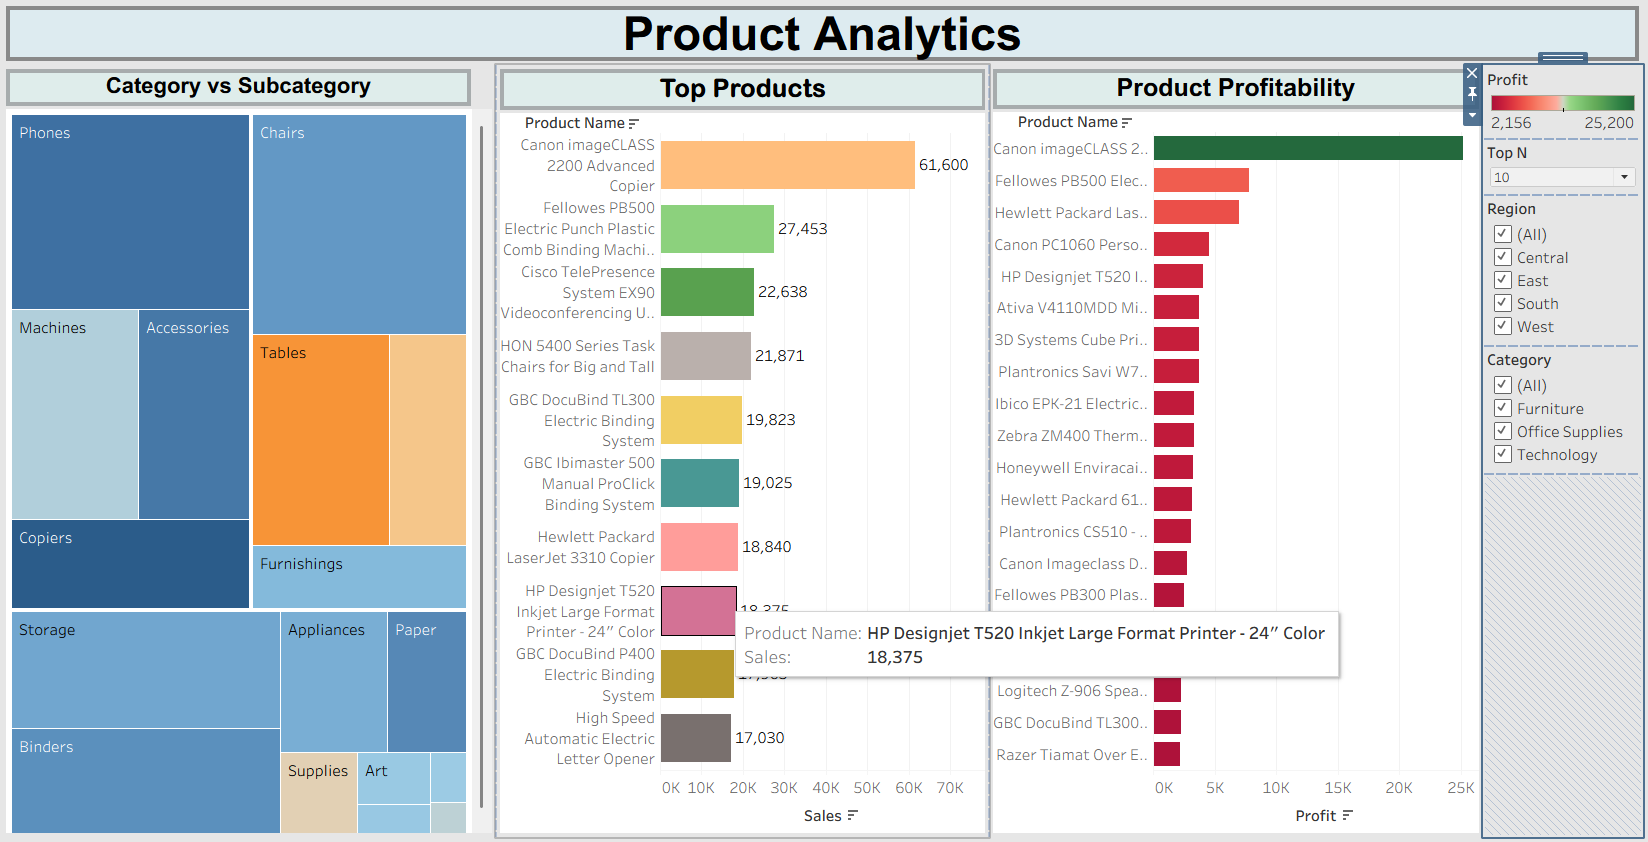

The dashboard page shown, as its layout file describes it:
{"tool":"tableau","page":{"name":"Product Analytics","canvas":[1000,1000],"units":"permille","ordinal":2},"visuals":[{"type":"title","box":[4.8,9.4,990.3,74]},{"type":"worksheet","title":"Category vs Subcategory","mark":"Automatic","box":[4.8,83.4,297.9,907.2]},{"type":"worksheet","title":"Top Products","mark":"Automatic","rows":["Product Name"],"cols":["Sales"],"box":[302.8,83.4,297.9,907.2]},{"type":"worksheet","title":"Product Profitability","mark":"Automatic","rows":["Product Name"],"cols":["Profit"],"box":[600.7,83.4,297.9,907.2]},{"type":"legend","title":"Product Profitability","param":"[federated.11aeaxj0xg2ykf155qtt01831f89].[sum:Profit:qk]","box":[898.6,83.4,96.6,85.8]},{"type":"parameter","param":"[Parameters].[Parameter 0807371301195778]","box":[898.6,169.2,96.6,65.8]},{"type":"filter","title":"Category vs Subcategory","param":"[federated.11aeaxj0xg2ykf155qtt01831f89].[none:Region:nk]","box":[898.6,235,96.6,177.4]},{"type":"filter","title":"Category vs Subcategory","param":"[federated.11aeaxj0xg2ykf155qtt01831f89].[none:Category:nk]","box":[898.6,412.4,96.6,150.4]}]}

Visuals, with their boxes on the dashboard's canvas, which has no fixed pixel size, in thousandths of its width and height (x1, y1, x2, y2). These are canvas units, not pixel positions in the 1648x842 screenshot, which may show the page scaled, cropped or inside an application window:
title: <region>5, 9, 995, 83</region>
"Category vs Subcategory" worksheet: <region>5, 83, 303, 991</region>
"Top Products" worksheet: <region>303, 83, 601, 991</region>
"Product Profitability" worksheet: <region>601, 83, 899, 991</region>
"Product Profitability" legend: <region>899, 83, 995, 169</region>
parameter: <region>899, 169, 995, 235</region>
"Category vs Subcategory" filter: <region>899, 235, 995, 412</region>
"Category vs Subcategory" filter: <region>899, 412, 995, 563</region>
